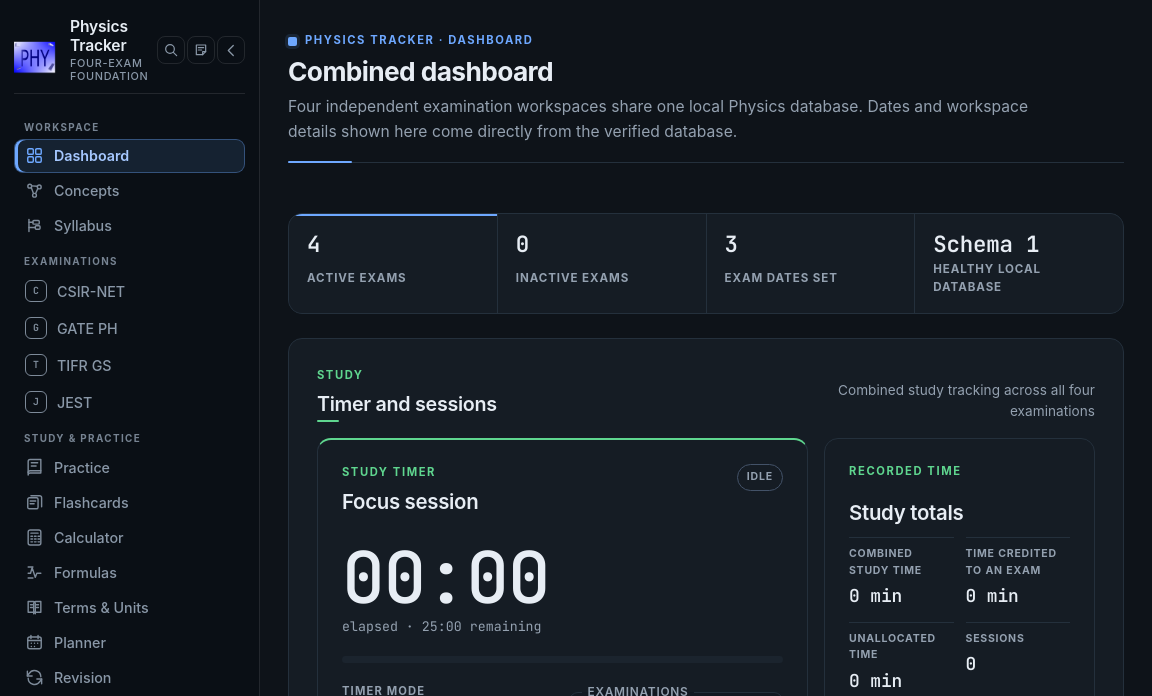
Test: V2 application shell › navigates to the shared concept library from the sidebar
Expected: the heading "Combined dashboard" is shown, [288,55,553,87]
Click the button with aria-label "Concept library": (130, 191) [14,174,245,208]
(page scrolled)
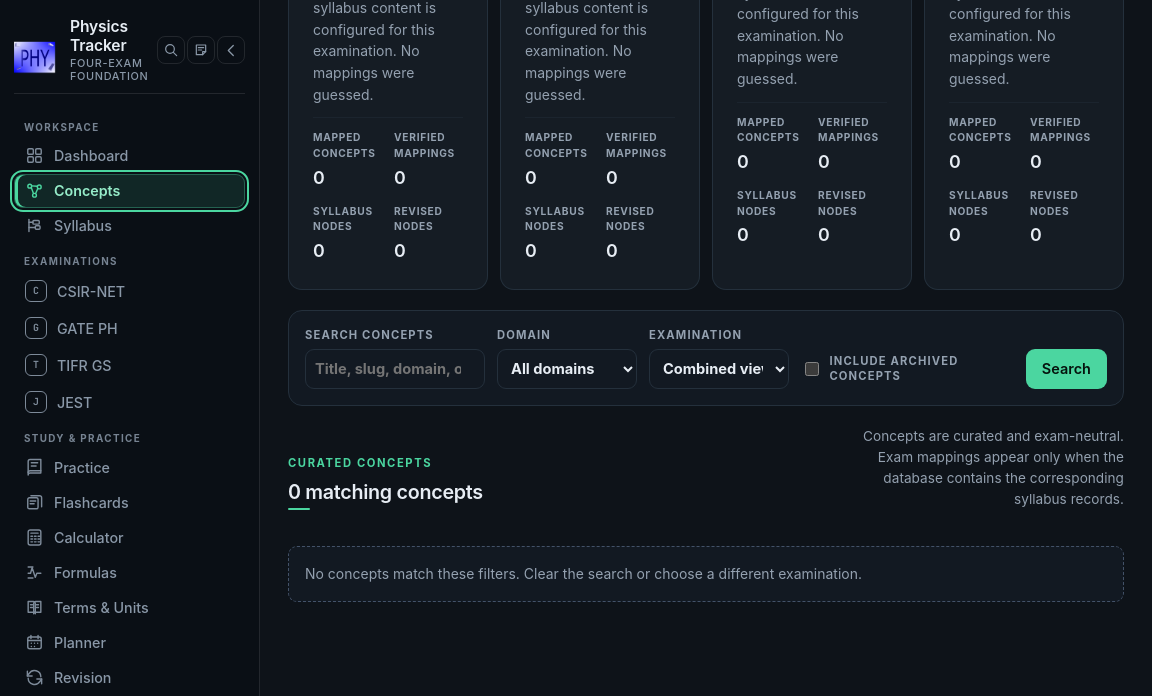
Expected: the text "No concepts match these filters. Clear the search or choose a different examination." is shown, [305,565,862,582]
